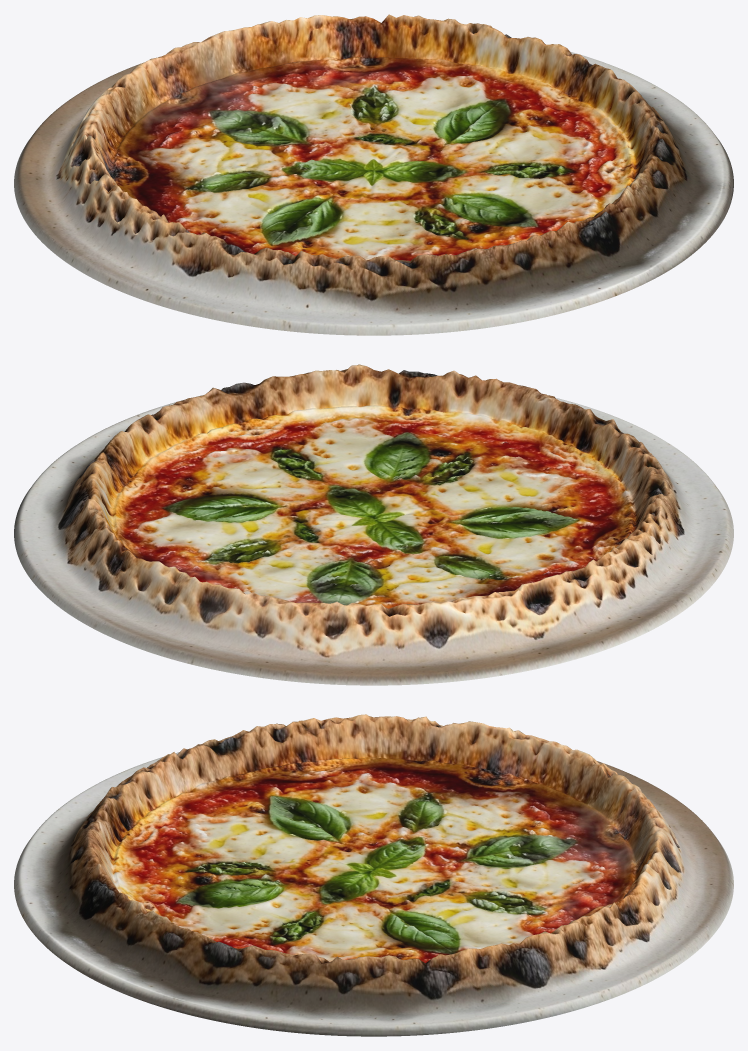
File: pizza-margherita.glb
3 renders of one model, top to bottom at view 1: azimuth 30°, elevation 25°; view 2: azimuth 150°, elevation 25°; view 3: azimuth 270°, elevation 25°, orthographic.
Parts seen in each view (by area): view 1: pizza-margherita; view 2: pizza-margherita; view 3: pizza-margherita.
Part boxes in pixels (left/top/right/bottom): pizza-margherita: left=14, top=14, right=733, bottom=335; pizza-margherita: left=14, top=364, right=733, bottom=685; pizza-margherita: left=14, top=714, right=733, bottom=1036.
Bounding box in the file's own units: 0.34 × 0.0347 × 0.34.
2 materials, 1 textured.
